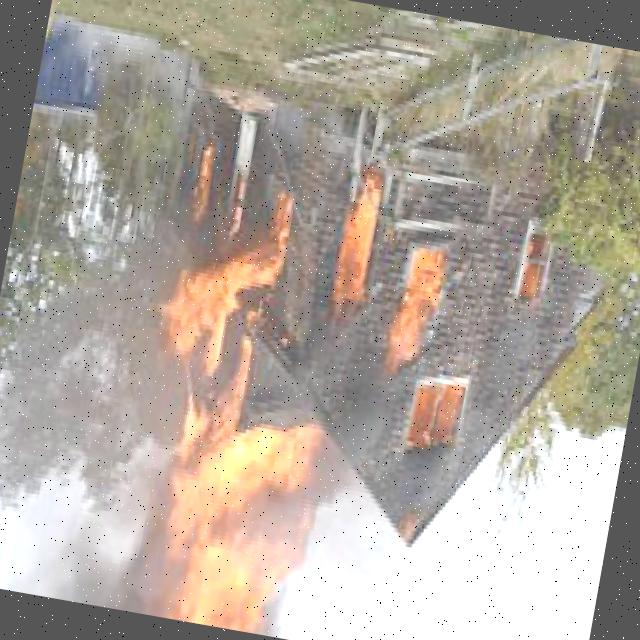fire: (153, 391, 334, 640), (166, 211, 290, 366), (379, 226, 452, 378), (325, 164, 395, 308), (187, 139, 218, 212)
